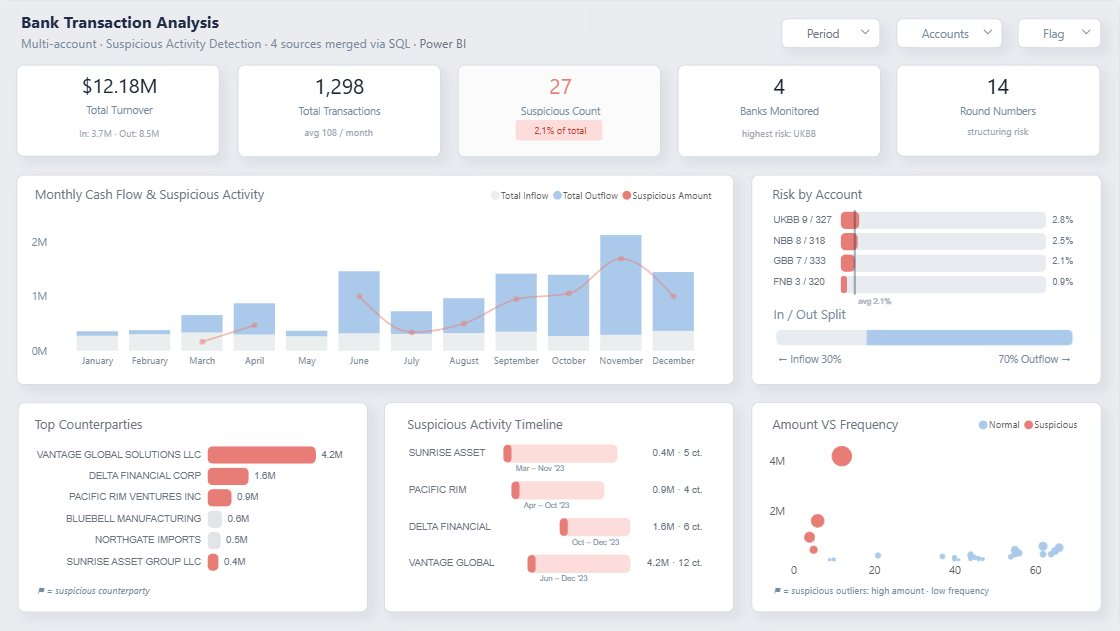

This screenshot's page, from the dashboard's own definition file:
{"tool":"powerbi","page":{"name":"Дубликат Страница 1","canvas":[1280,720],"ordinal":0},"visuals":[{"type":"shape","box":[860,458.3,400,240.3],"z":0},{"type":"shape","box":[1026.2,73,232.5,105],"z":1000},{"type":"shape","box":[776,73,232,105.3],"z":2000},{"type":"shape","box":[524.4,73,232,105.3],"z":3000},{"type":"shape","box":[440,458.2,400,240.3],"z":4000},{"type":"shape","box":[272.2,73,232,105.3],"z":5000},{"type":"shape","box":[20,73,232,105],"z":6000},{"type":"shape","box":[860,198,400,240],"z":7000},{"type":"textbox","box":[20,6,657.5,36],"z":8000},{"type":"textbox","box":[20,32.5,600,30],"z":9000},{"type":"card","fields":{"Values":["Sheet1.Total Turnover"]},"box":[21.8,70,232.9,81.7],"z":10000},{"type":"card","fields":{"Values":["Sheet1.Total Transactions Label"]},"box":[273,70,232.9,81.7],"z":11000},{"type":"card","fields":{"Values":["Sheet1.Suspicious Count"]},"box":[525,70,232.7,81.4],"z":12000},{"type":"card","fields":{"Values":["Sheet1.Round Number Count"]},"box":[1026,70,232,81],"z":13000},{"type":"card","fields":{"Values":["Sheet1.Bank Count"]},"box":[775.5,70,232.9,81],"z":14000},{"type":"lineStackedColumnComboChart","title":" ","fields":{"Category":["Sheet1.MonthEng"],"Y":["Sheet1.Total Inflow","Sheet1.Total Outflow"],"Y2":["Sheet1.Suspicious Amount Monthly"]},"box":[20.5,198,820,240],"z":15000},{"type":"STANDALONEdeneb7E15AEF80B9E4D4F8E12924291ECE89A","title":" ","fields":{"dataset":["Sheet1.Counterparty","Sheet1.Total Turnover Line","Sheet1.IsSuspicious"]},"box":[20.9,458,400,240],"z":16000},{"type":"scatterChart","title":" ","fields":{"X":["Sheet1.Total Transactions"],"Y":["Sheet1.Total Turnover Line"],"Size":["Sheet1.Total Turnover Line"],"Category":["Sheet1.Counterparty"],"Series":["Sheet1.CounterpartyRiskCol"]},"box":[859.7,458.3,397,224],"z":17000},{"type":"cardVisual","fields":{"Data":["Sheet1.Outflow % Label"]},"box":[1120,389,138.9,40.3],"z":18000},{"type":"cardVisual","fields":{"Data":["Sheet1.Inflow % Label"]},"box":[869,389,143.1,40.3],"z":19000},{"type":"textbox","box":[880,343,127.8,41.7],"z":20000},{"type":"STANDALONEdeneb7E15AEF80B9E4D4F8E12924291ECE89A","fields":{"dataset":["Sheet1.Total Inflow","Sheet1.Total Outflow"]},"box":[884,370,355,47.5],"z":21000},{"type":"slicer","fields":{"Values":["Sheet1.Date"]},"box":[893.8,20,112.5,33.8],"z":22000},{"type":"slicer","fields":{"Values":["Sheet1.Bank"]},"box":[1025,20,121,33.7],"z":23000},{"type":"slicer","fields":{"Values":["Sheet1.RiskCategory"]},"box":[1164,20,95,33.7],"z":24000},{"type":"card","fields":{"Values":["Sheet1.Inflow Outflow Label"]},"box":[22.5,131.2,230,45],"z":25000},{"type":"card","fields":{"Values":["Sheet1.Top Risk Bank"]},"box":[775,130.8,232,45.2],"z":26000},{"type":"textbox","box":[1101.7,133,105.3,31],"z":27000},{"type":"shape","box":[590,136,100,24],"z":28000},{"type":"card","fields":{"Values":["Sheet1.Suspicious Pct Label"]},"box":[525,136,232.5,30],"z":29000},{"type":"textbox","box":[879,468,182.3,41.7],"z":30000},{"type":"textbox","box":[36.4,205.2,283.1,41.6],"z":31000},{"type":"textbox","box":[36.2,468.2,182.3,41.7],"z":32000},{"type":"textbox","box":[39,750.2,292.9,30],"z":33000},{"type":"textbox","box":[879,205,143,38],"z":34000},{"type":"card","fields":{"Values":["Sheet1.Avg per Month Label"]},"box":[272.5,131.2,231.2,43.8],"z":35000},{"type":"textbox","box":[38.8,657,181.2,30],"z":36000},{"type":"STANDALONEdeneb7E15AEF80B9E4D4F8E12924291ECE89A","fields":{"dataset":["Sheet1.Bank","Sheet1.Suspicious Count","Sheet1.Total Transactions"]},"box":[880,227.1,392.9,142.9],"z":37000},{"type":"textbox","box":[461.9,468,228.6,41.7],"z":38000},{"type":"STANDALONEdeneb7E15AEF80B9E4D4F8E12924291ECE89A","fields":{"dataset":["Sheet1.Counterparty","Sheet1.Suspicious Amount CP","Sheet1.CP Period","Sheet1.CP Start Month","Sheet1.CP End Month","Sheet1.Suspicious Count","Sheet1.txn_id"]},"box":[461.1,502,358.9,185.6],"z":39000},{"type":"textbox","box":[880.6,656.9,358.3,30.6],"z":39001}]}

Visuals, with their boxes in screenshot pixels (x1, y1, x2, y2), scaled from the page's 1280x720 canvas onto the 1120x631 screenshot:
shape: [x1=752, y1=402, x2=1102, y2=612]
shape: [x1=898, y1=64, x2=1101, y2=156]
shape: [x1=679, y1=64, x2=882, y2=156]
shape: [x1=459, y1=64, x2=662, y2=156]
shape: [x1=385, y1=402, x2=735, y2=612]
shape: [x1=238, y1=64, x2=441, y2=156]
shape: [x1=18, y1=64, x2=220, y2=156]
shape: [x1=752, y1=174, x2=1102, y2=384]
textbox: [x1=18, y1=5, x2=593, y2=37]
textbox: [x1=18, y1=28, x2=542, y2=55]
card - Sheet1.Total Turnover: [x1=19, y1=61, x2=223, y2=133]
card - Sheet1.Total Transactions Label: [x1=239, y1=61, x2=443, y2=133]
card - Sheet1.Suspicious Count: [x1=459, y1=61, x2=663, y2=133]
card - Sheet1.Round Number Count: [x1=898, y1=61, x2=1101, y2=132]
card - Sheet1.Bank Count: [x1=679, y1=61, x2=882, y2=132]
" " lineStackedColumnComboChart: [x1=18, y1=174, x2=735, y2=384]
" " STANDALONEdeneb7E15AEF80B9E4D4F8E12924291ECE89A: [x1=18, y1=401, x2=368, y2=612]
" " scatterChart: [x1=752, y1=402, x2=1100, y2=598]
cardVisual - Sheet1.Outflow % Label: [x1=980, y1=341, x2=1102, y2=376]
cardVisual - Sheet1.Inflow % Label: [x1=760, y1=341, x2=886, y2=376]
textbox: [x1=770, y1=301, x2=882, y2=337]
STANDALONEdeneb7E15AEF80B9E4D4F8E12924291ECE89A - Sheet1.Total Inflow x Sheet1.Total Outflow: [x1=774, y1=324, x2=1084, y2=366]
slicer - Sheet1.Date: [x1=782, y1=18, x2=881, y2=47]
slicer - Sheet1.Bank: [x1=897, y1=18, x2=1003, y2=47]
slicer - Sheet1.RiskCategory: [x1=1018, y1=18, x2=1102, y2=47]
card - Sheet1.Inflow Outflow Label: [x1=20, y1=115, x2=221, y2=154]
card - Sheet1.Top Risk Bank: [x1=678, y1=115, x2=881, y2=154]
textbox: [x1=964, y1=117, x2=1056, y2=144]
shape: [x1=516, y1=119, x2=604, y2=140]
card - Sheet1.Suspicious Pct Label: [x1=459, y1=119, x2=663, y2=145]
textbox: [x1=769, y1=410, x2=929, y2=447]
textbox: [x1=32, y1=180, x2=280, y2=216]
textbox: [x1=32, y1=410, x2=191, y2=447]
textbox: [x1=769, y1=180, x2=894, y2=213]
card - Sheet1.Avg per Month Label: [x1=238, y1=115, x2=441, y2=153]
textbox: [x1=34, y1=576, x2=192, y2=602]
STANDALONEdeneb7E15AEF80B9E4D4F8E12924291ECE89A - Sheet1.Bank x Sheet1.Suspicious Count: [x1=770, y1=199, x2=1114, y2=324]
textbox: [x1=404, y1=410, x2=604, y2=447]
STANDALONEdeneb7E15AEF80B9E4D4F8E12924291ECE89A - Sheet1.Counterparty x Sheet1.Suspicious Amount CP: [x1=403, y1=440, x2=718, y2=603]
textbox: [x1=771, y1=576, x2=1084, y2=603]
